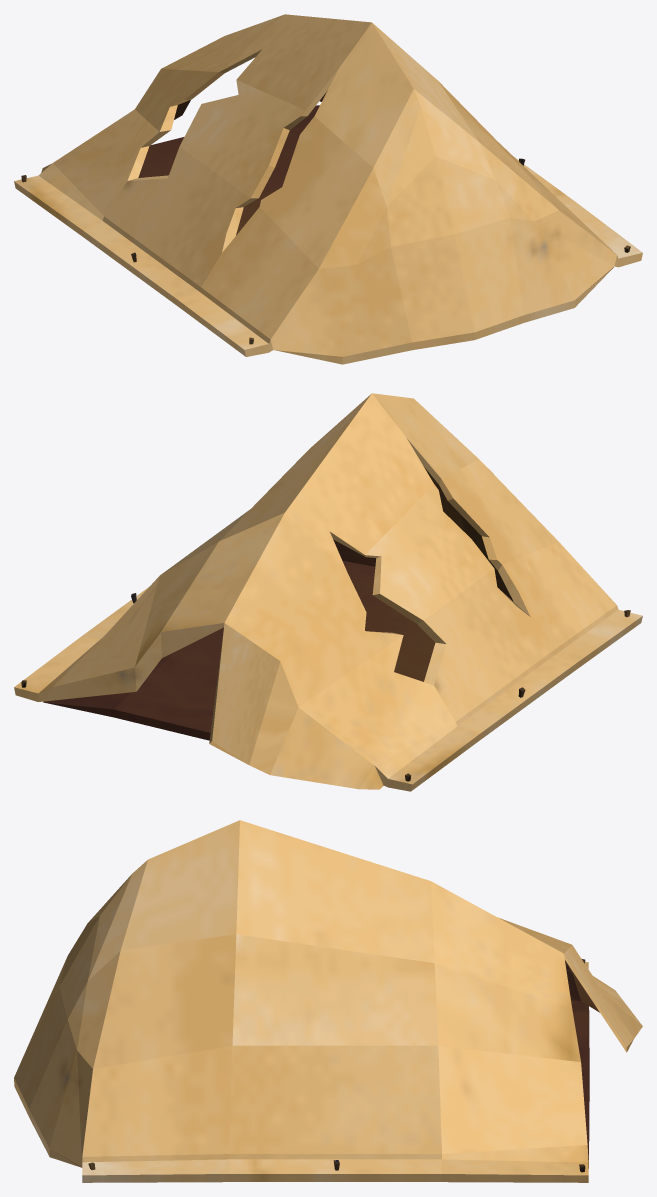
The model's file is tentBroken_Tan.fbx.
3 renders of one model, top to bottom at view 1: azimuth 30°, elevation 25°; view 2: azimuth 150°, elevation 25°; view 3: azimuth 270°, elevation 25°, orthographic. The views are drawn at different scales.
Visible parts, largest first — view 1: BrokenTent_Tan; view 2: BrokenTent_Tan; view 3: BrokenTent_Tan.
Boxes of the visible parts, <box> form: BrokenTent_Tan: <box>14,14,642,364</box>; BrokenTent_Tan: <box>14,393,642,791</box>; BrokenTent_Tan: <box>14,820,642,1182</box>.
Bounding box in the file's own units: 6.36 × 7.91 × 3.82.
3 materials, 3 textured.
